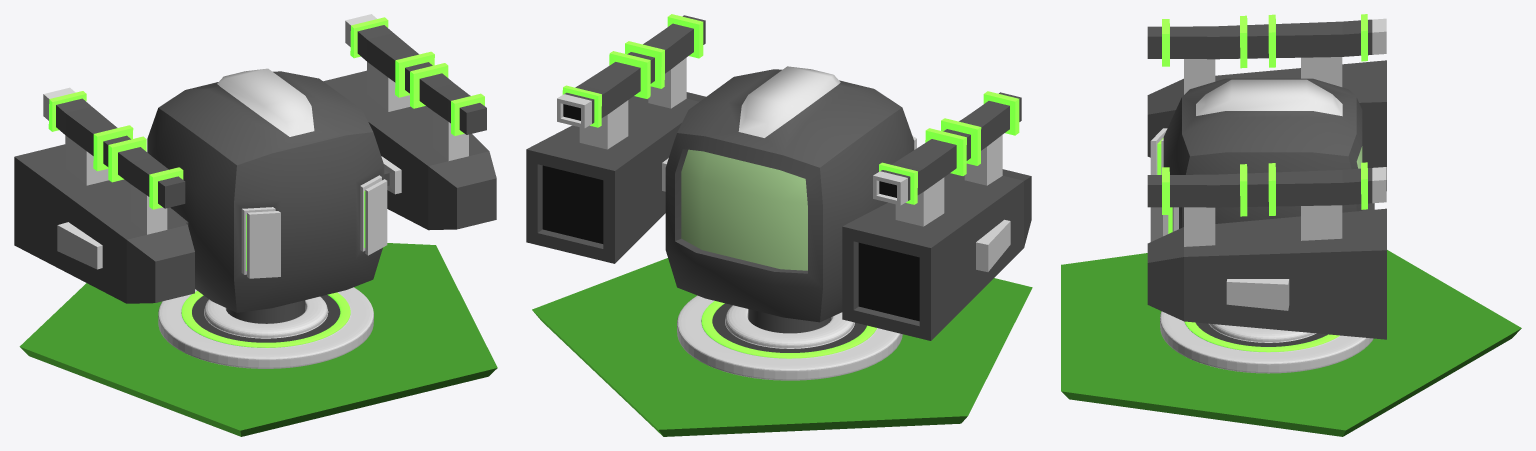
The model's file is Large_turret_1.fbx.
3 views of the same model, side by side, from view 1: azimuth 30°, elevation 25°; view 2: azimuth 150°, elevation 25°; view 3: azimuth 270°, elevation 25° (orthographic). The views are drawn at different scales.
Visible parts, largest first — view 1: Cube, Cube.001, DodecagonVideTuile.001, Cylinder.001, Cube.004; view 2: Cube, Cube.001, DodecagonVideTuile.001, Cylinder.001, Cube.004; view 3: Cube, DodecagonVideTuile.001, Cube.001, Cylinder.001.
Part boxes in pixels (x1,y1,x2,y2): Cube: (14, 14, 496, 303); Cube.001: (147, 68, 387, 312); DodecagonVideTuile.001: (19, 243, 497, 436); Cylinder.001: (158, 287, 373, 368); Cube.004: (226, 300, 305, 323); Cube: (526, 14, 1031, 340); Cube.001: (665, 66, 916, 322); DodecagonVideTuile.001: (532, 258, 1032, 436); Cylinder.001: (677, 295, 902, 380); Cube.004: (748, 309, 831, 333); Cube: (1147, 14, 1386, 339); DodecagonVideTuile.001: (1061, 250, 1521, 436); Cube.001: (1150, 78, 1374, 241); Cylinder.001: (1160, 311, 1373, 373).
Size of the model in its own units: 111 by 62.71 by 105.
